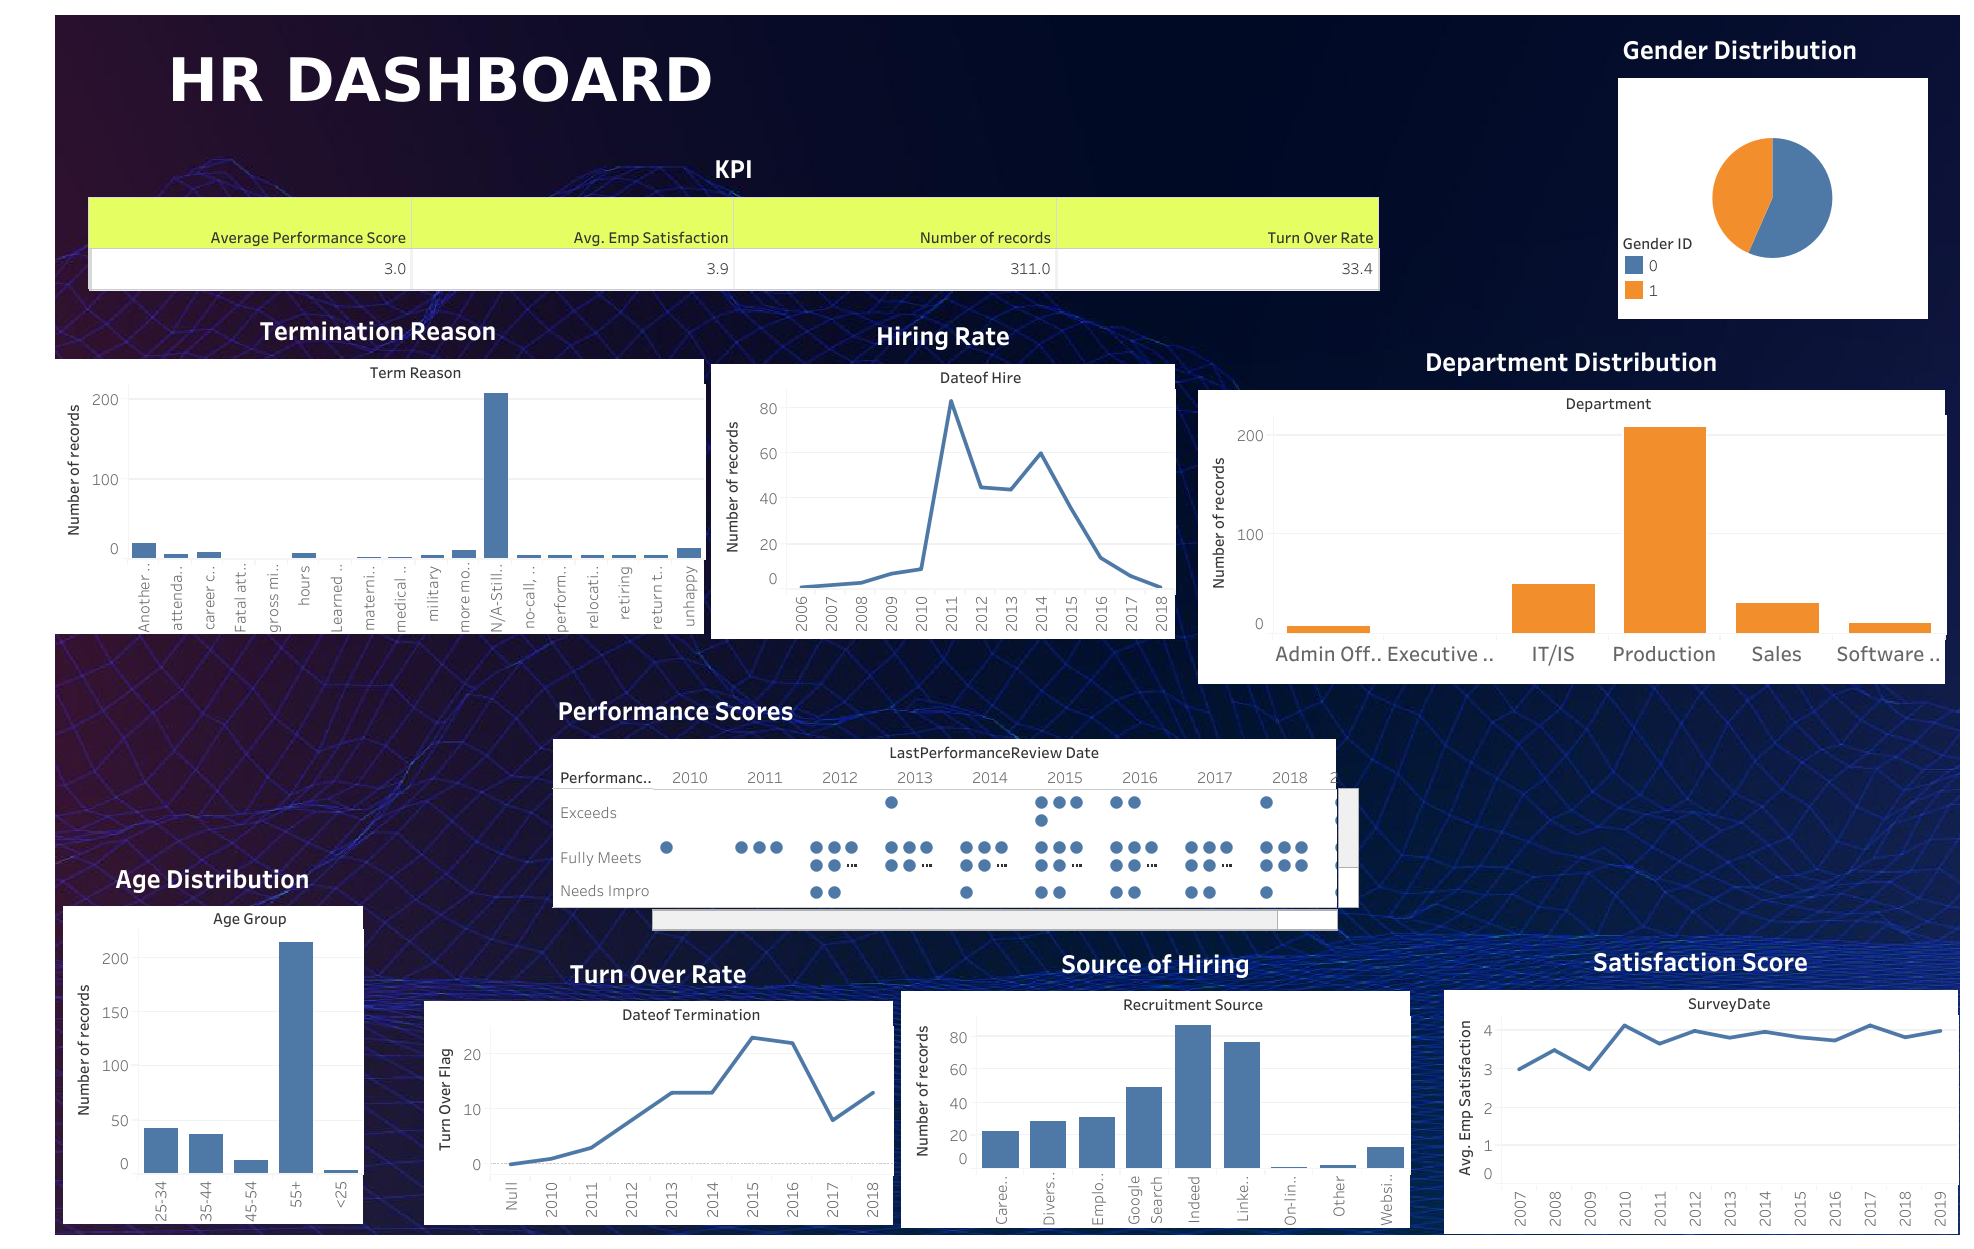

What the dashboard file says about the page in this screenshot:
{"tool":"tableau","page":{"name":"Dashboard 2","canvas":[1580,1000],"ordinal":0},"visuals":[{"type":"image","param":"Image/5630939.jpg","box":[8,8,31.9,984]},{"type":"image","param":"Image/dash 1.jpg","box":[39.9,8,1532.1,984]},{"type":"text","box":[18,15.6,669,96.7]},{"type":"worksheet","title":"KPI","mark":"Automatic","box":[70,114.4,1034,117.8]},{"type":"legend","title":"Gender Distribution","param":"[federated.16e19t71qx16251agl2zo0mxuksy].[none:GenderID:ok]","box":[1297,183,177,71]},{"type":"worksheet","title":"Termination Reason","mark":"Automatic","rows":["Calculation_1138284820681068546"],"cols":["TermReason"],"box":[42,244.4,521,262.2]},{"type":"worksheet","title":"Hiring Rate","mark":"Automatic","rows":["Calculation_1138284820681068546"],"cols":["DateofHire"],"box":[569,247.8,371,263.3]},{"type":"worksheet","title":"Department Distribution","mark":"Automatic","rows":["Calculation_1138284820681068546"],"cols":["Department"],"box":[953,254.4,401,277.8]},{"type":"worksheet","title":"Gender Distribution","mark":"Pie","box":[1372,291,177,276]},{"type":"worksheet","title":"Performance Scores","mark":"Circle","rows":["PerformanceScore"],"cols":["LastPerformanceReview_Date"],"box":[442,548,646,197]},{"type":"worksheet","title":"Age Distribution","mark":"Bar","rows":["Calculation_1138284820681068546"],"cols":["Calculation_1138284820686778371"],"box":[50,682,240,297]},{"type":"worksheet","title":"satisfaction Score","mark":"Line","rows":["EmpSatisfaction"],"cols":["Calculation_1138284820701995016"],"box":[1155,749,411,238]},{"type":"worksheet","title":"Source of Hiring","mark":"Automatic","rows":["Calculation_1138284820681068546"],"cols":["RecruitmentSource"],"box":[721,750,407,233]},{"type":"worksheet","title":"Turn Over Rate","mark":"Line","rows":["Calculation_1138284820691476485"],"cols":["DateofTermination"],"box":[339,758,375,222]}]}

Visuals, with their boxes in screenshot pixels (x1, y1, x2, y2), scaled from the page's 1580x1000 canvas onto the 1974x1249 screenshot:
image: (10, 10, 50, 1239)
image: (50, 10, 1964, 1239)
text: (22, 19, 858, 140)
"KPI" worksheet: (87, 143, 1379, 290)
"Gender Distribution" legend: (1620, 229, 1842, 317)
"Termination Reason" worksheet: (52, 305, 703, 633)
"Hiring Rate" worksheet: (711, 310, 1174, 638)
"Department Distribution" worksheet: (1191, 318, 1692, 665)
"Gender Distribution" worksheet (Pie marks): (1714, 363, 1935, 708)
"Performance Scores" worksheet (Circle marks): (552, 684, 1359, 931)
"Age Distribution" worksheet (Bar marks): (62, 852, 362, 1223)
"satisfaction Score" worksheet (Line marks): (1443, 936, 1957, 1233)
"Source of Hiring" worksheet: (901, 937, 1409, 1228)
"Turn Over Rate" worksheet (Line marks): (424, 947, 892, 1224)
